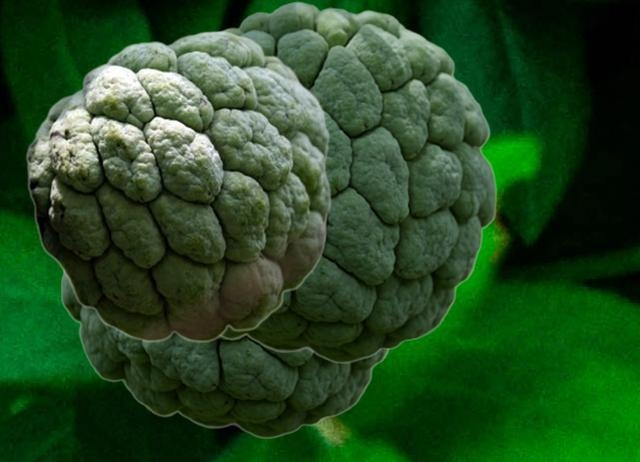atis: (191, 1, 496, 363), (25, 30, 331, 342), (60, 272, 392, 438)
